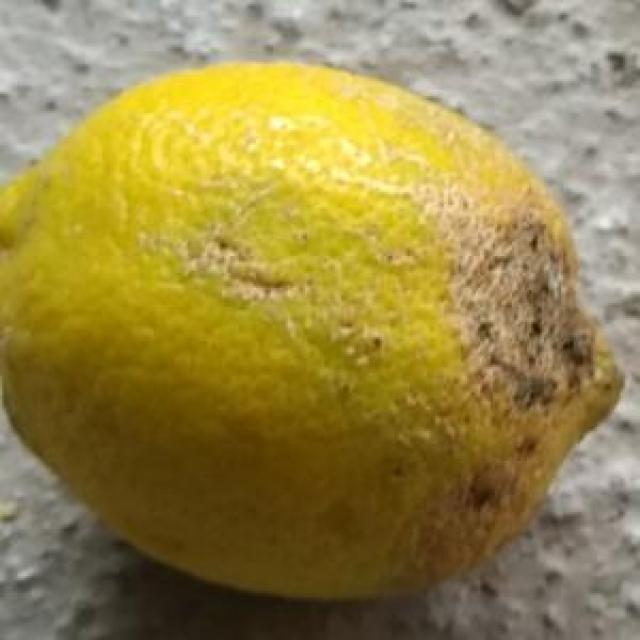lemon: (0, 56, 629, 616)
